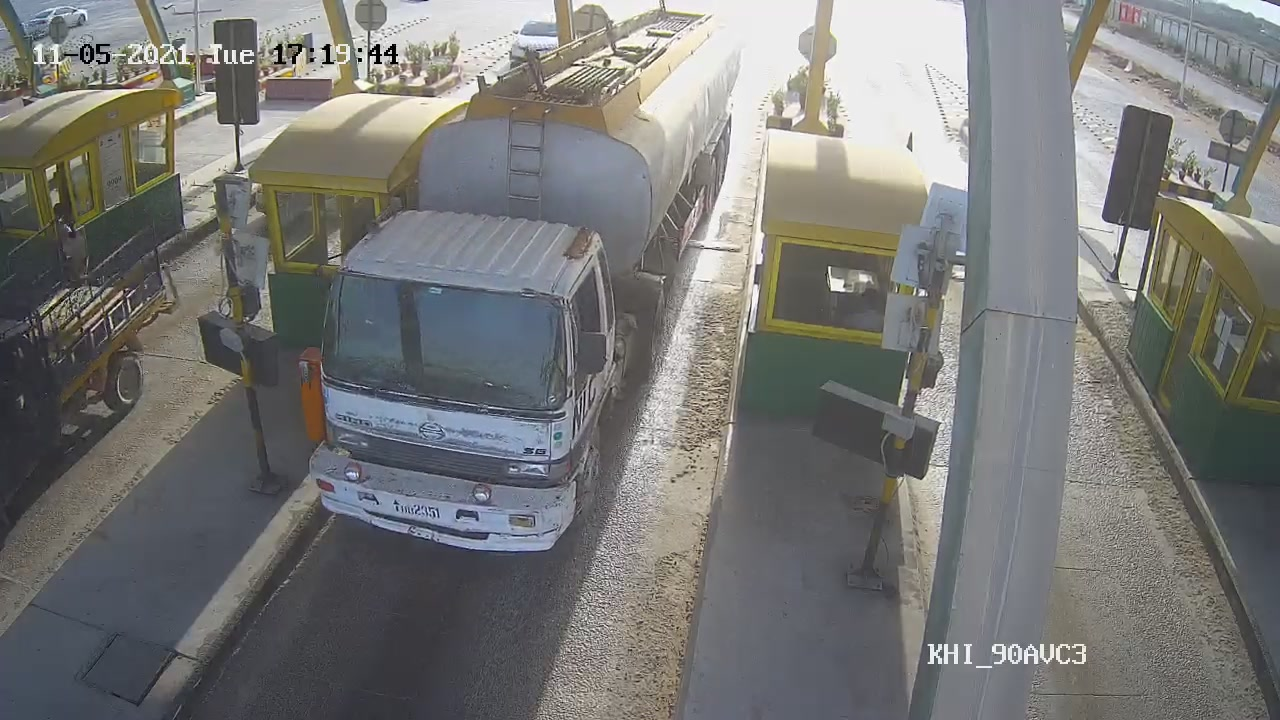F6: (311, 12, 748, 550)
